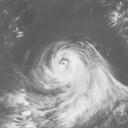cyclone: (34, 42, 95, 99)
